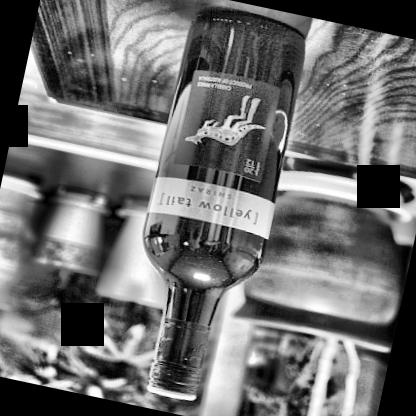yellowtail: (144, 50, 302, 238)
